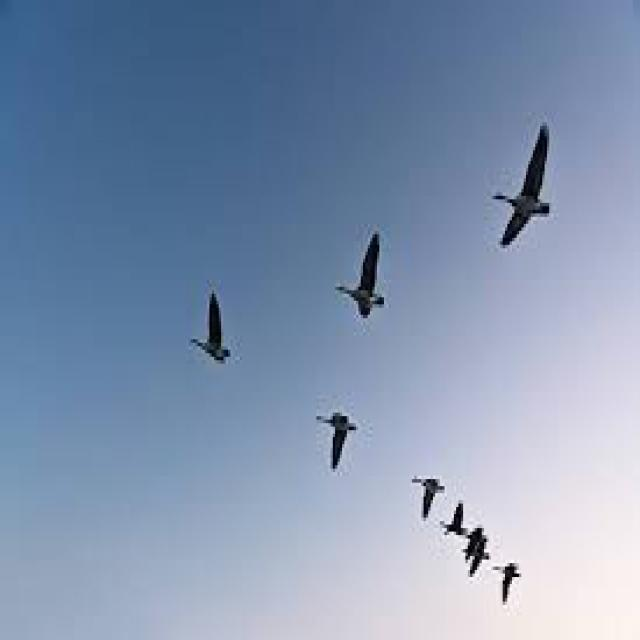bird: (480, 102, 566, 326), (326, 231, 412, 329), (190, 278, 246, 376), (312, 396, 370, 484), (470, 520, 498, 604), (414, 468, 452, 528), (496, 538, 530, 598), (442, 498, 473, 551)
